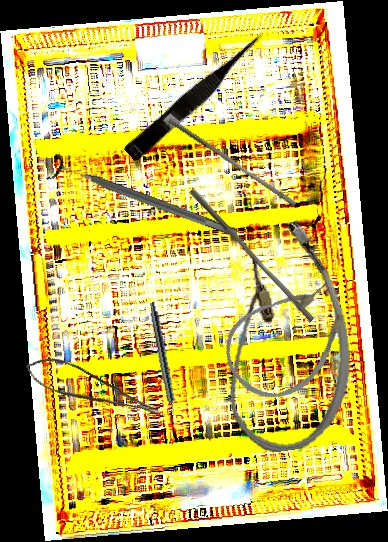Cannula: (205, 216, 363, 458), (208, 262, 370, 417)
Fixation Ring: (45, 151, 243, 248)
Handpiece: (145, 301, 181, 424)
Micro Scissor: (122, 28, 273, 166), (20, 344, 162, 439)
Pusher: (184, 188, 319, 323), (164, 117, 300, 208)
